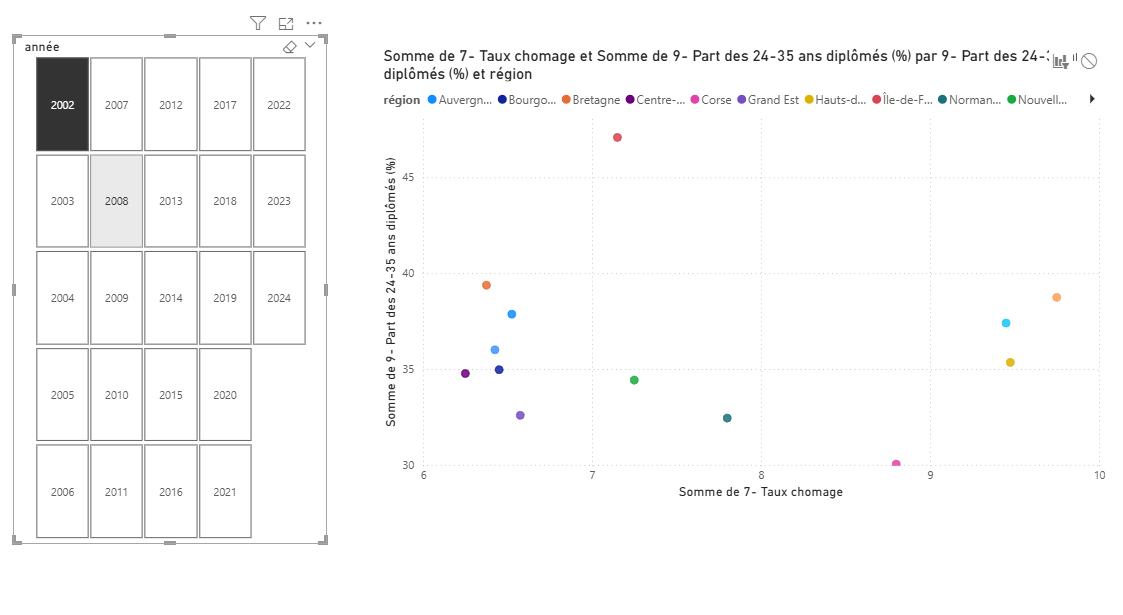

What the dashboard file says about the page in this screenshot:
{"tool":"powerbi","page":{"name":"Taux chômage / 24-35 diplomées par region/année","canvas":[1280,720],"ordinal":6},"visuals":[{"type":"scatterChart","fields":{"X":["Sum(Données élections.7- Taux chomage)"],"Y":["Sum(Données élections.9- Part des 24-35 ans diplômés (%))"],"Category":["Données élections.9- Part des 24-35 ans diplômés (%)"],"Series":["Données élections.région"]},"box":[440,54.4,812.2,507.8],"z":0},{"type":"slicer","fields":{"Values":["Données élections.année"]},"box":[31.1,54.4,348.9,565.6],"z":1000}]}

Visuals, with their boxes on the page's 1280x720 design canvas (x1, y1, x2, y2). These are canvas units, not pixel positions in the 1123x615 screenshot, which may show the page scaled, cropped or inside an application window:
scatterChart - Sum(Données élections.7- Taux chomage) x Sum(Données élections.9- Part des 24-35 ans diplômés (%)): BBox(440, 54, 1252, 562)
slicer - Données élections.année: BBox(31, 54, 380, 620)
